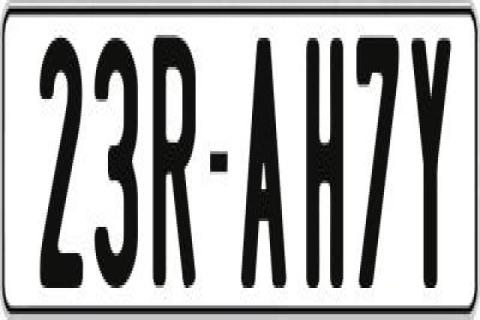0: (92, 29, 142, 279), (354, 32, 402, 288), (38, 32, 80, 291)
A: (238, 38, 286, 291)
H: (304, 32, 348, 285)
R: (152, 35, 198, 299)
Y: (411, 32, 458, 294)
